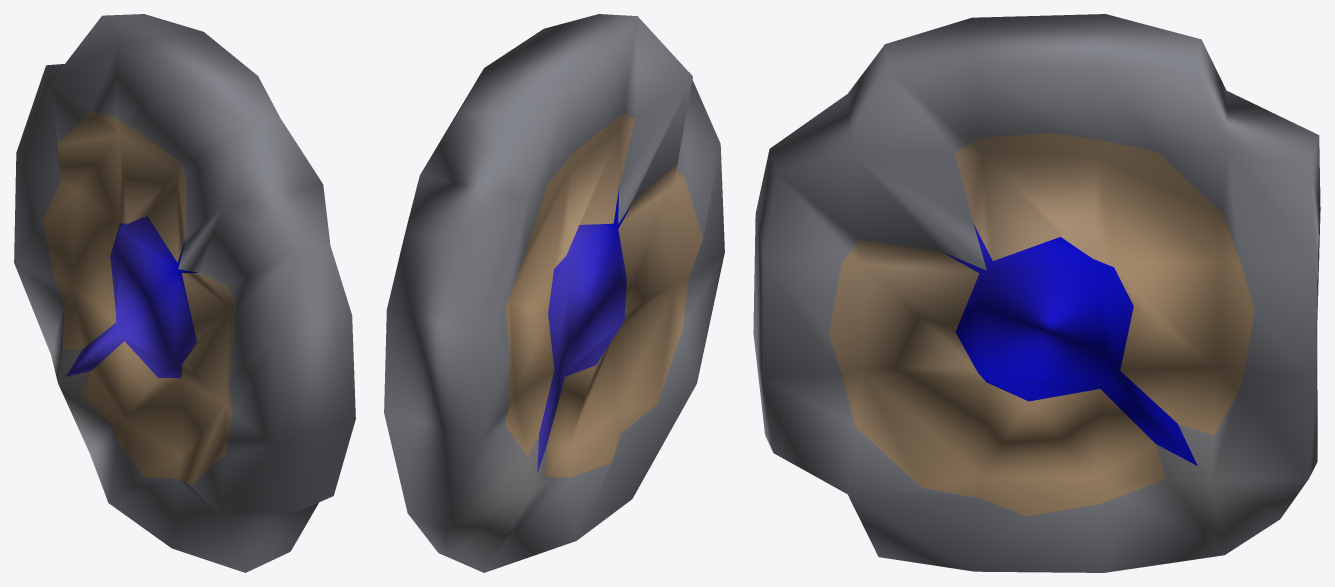
The model's file is wheel_spoked_lo.glb.
3 views of the same model, side by side, from view 1: azimuth 30°, elevation 25°; view 2: azimuth 150°, elevation 25°; view 3: azimuth 270°, elevation 25° (orthographic). The views are drawn at different scales.
Parts seen in each view (by area): view 1: wheel_spoked_lo; view 2: wheel_spoked_lo; view 3: wheel_spoked_lo.
Boxes of the visible parts, bbox=[...] form: wheel_spoked_lo: bbox=[14, 14, 355, 572]; wheel_spoked_lo: bbox=[384, 14, 724, 572]; wheel_spoked_lo: bbox=[753, 14, 1320, 572].
Size of the model in its own units: 3.14 by 12.86 by 12.86.
